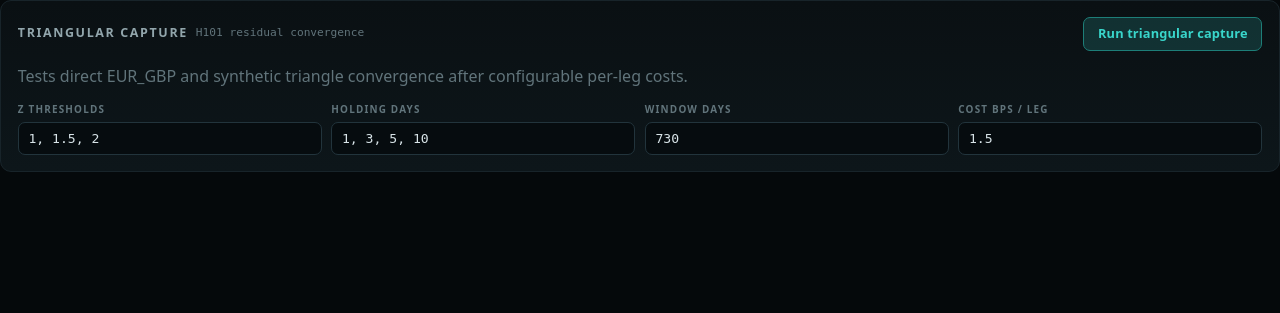
Test: runs triangular capture and renders net bps rows
The width and height of the screenshot is (1280, 313).
Click the button "Run triangular capture".
click(1173, 34)  # box [1083,17,1262,51]
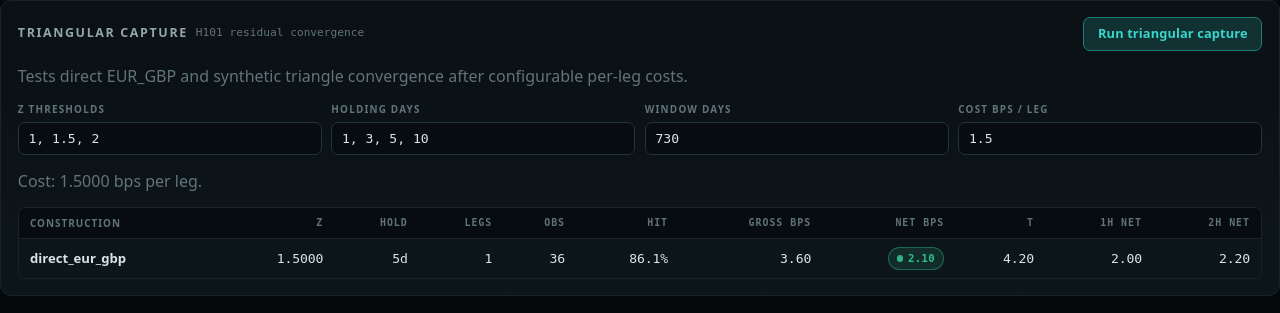
Now the text "direct_eur_gbp" is shown, box [19,239,218,278]
Now the text "2.10" is shown, box [888,247,944,270]
Now the text "Cost: 1.5000 bps per leg." is shown, box [18,170,202,192]
